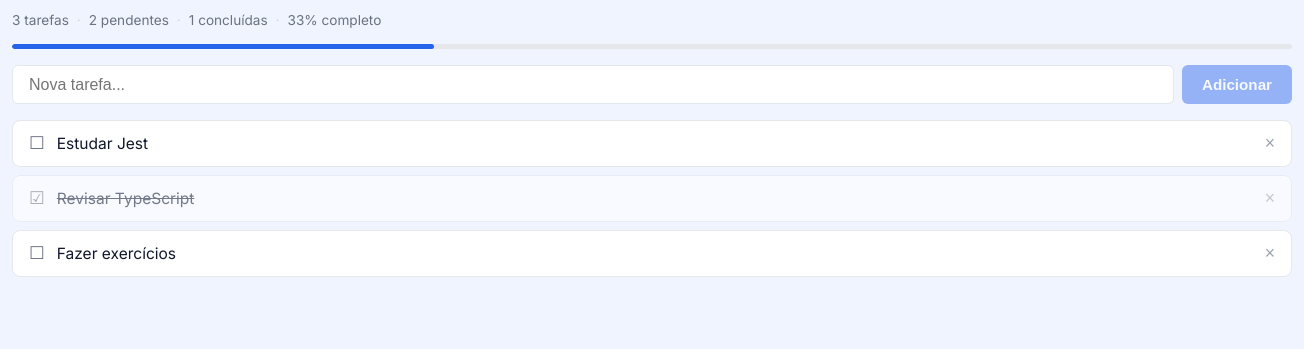
Test: ListaDeTarefas — adicionar tarefa › atualiza o contador após adicionar tarefa
Type "Mais uma tarefa" into the field with test id "input-nova-tarefa" at [593, 85], box [12,65,1174,104]
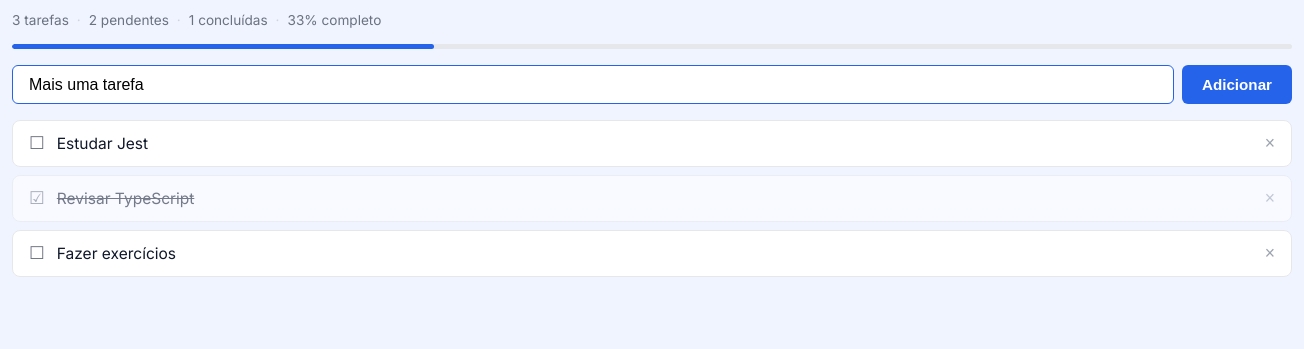
Submit the form with test id "form-nova-tarefa", box [12,65,1292,104]
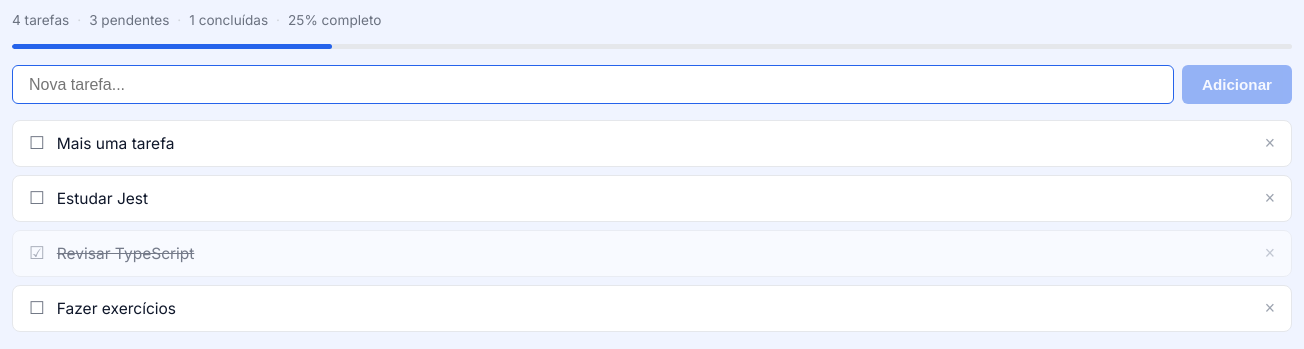
Now the text with test id "total" reads "4 tarefas", box [12,12,69,28]
Now the text with test id "pendentes" reads "3 pendentes", box [89,12,169,28]
